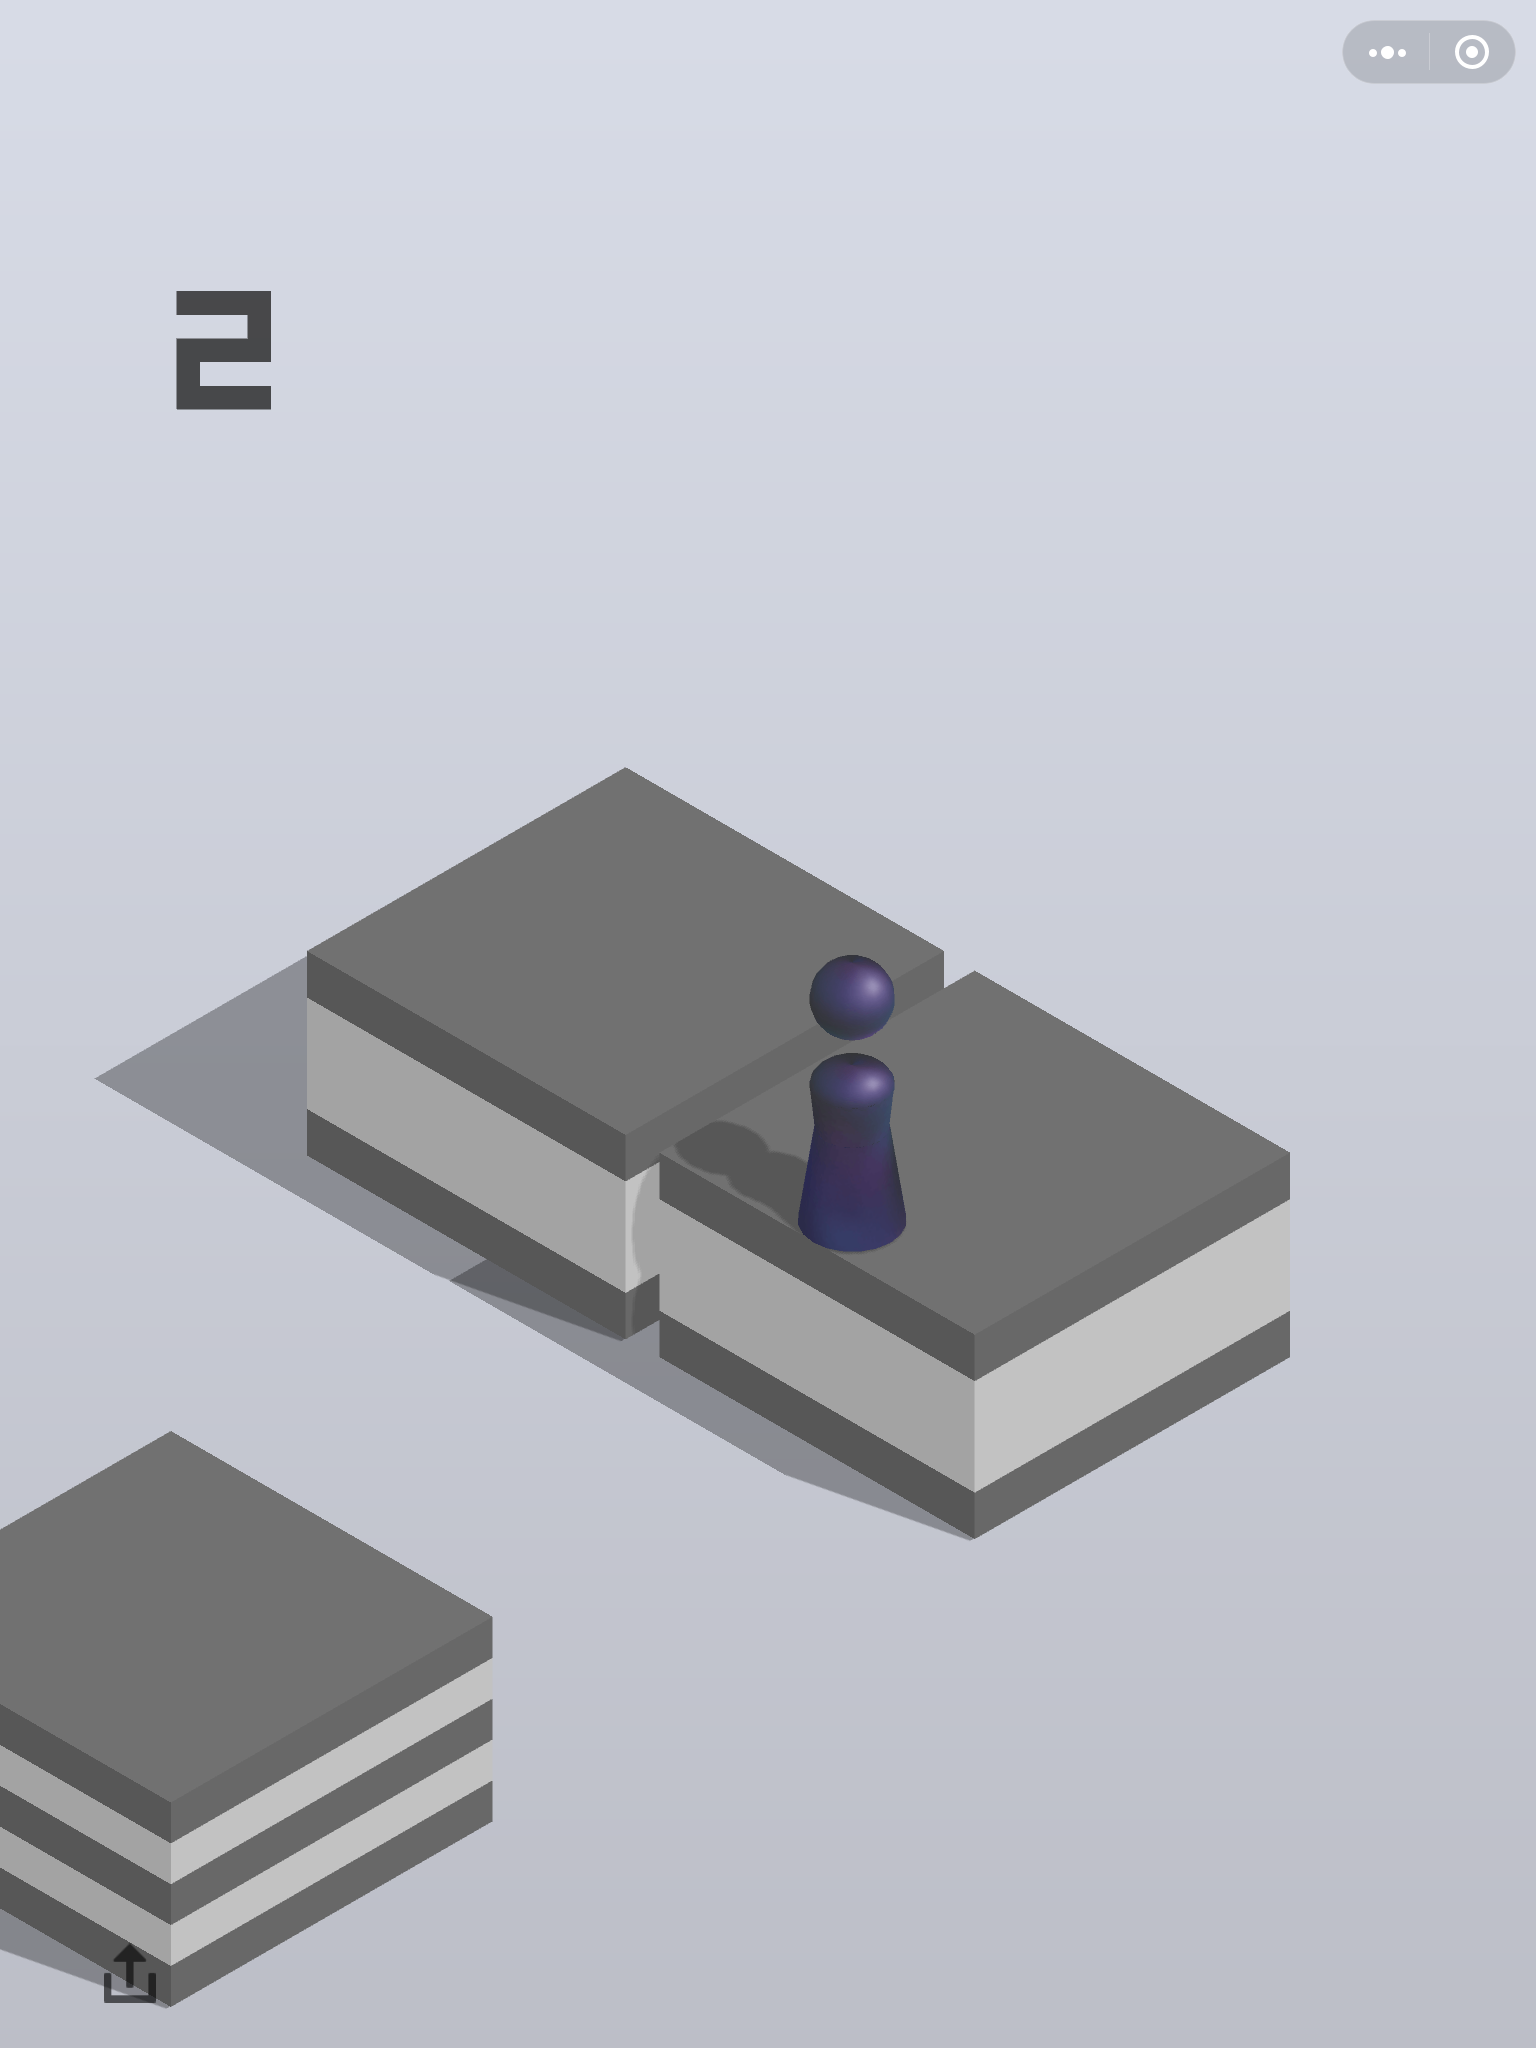f: (298, 760, 950, 1350), (655, 966, 1297, 1542), (2, 1424, 500, 2011)
r: (795, 951, 912, 1258)
